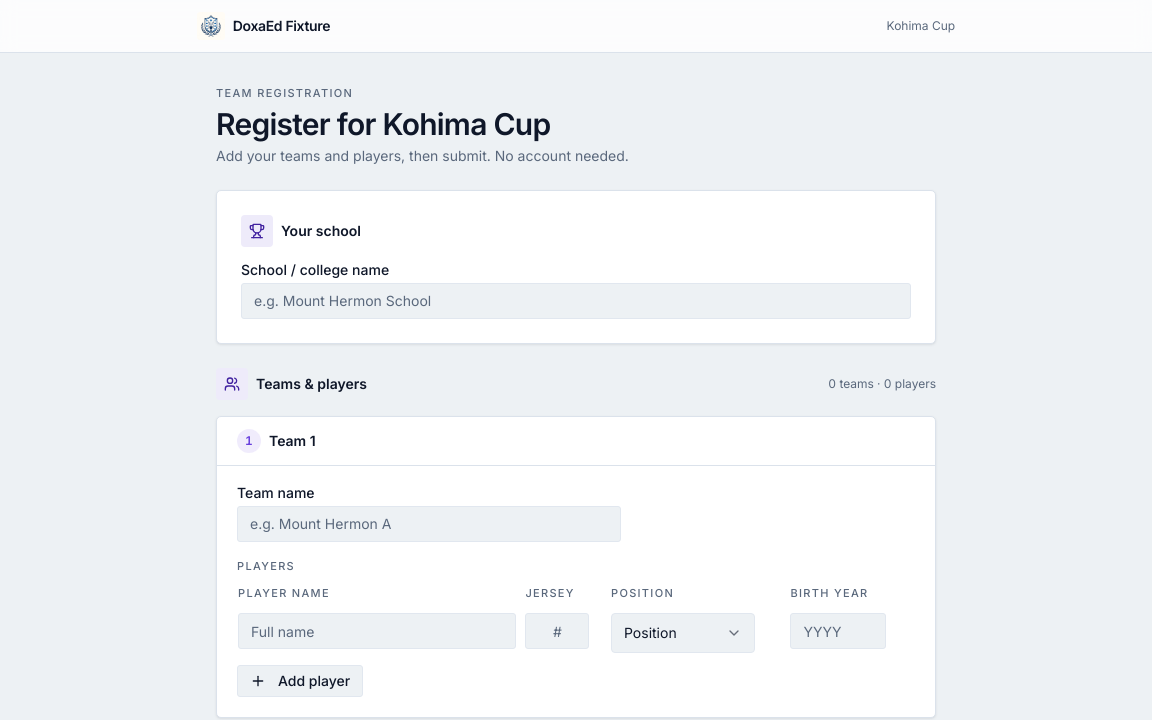
Test: RegistrationFormPage › submits the school's teams + players via the link
expect the heading "Register for Kohima Cup" is shown: met, box [216,106,550,142]
In the field labelled "School / college name": (576, 300) [241,282,911,318], type "Mount Hermon"
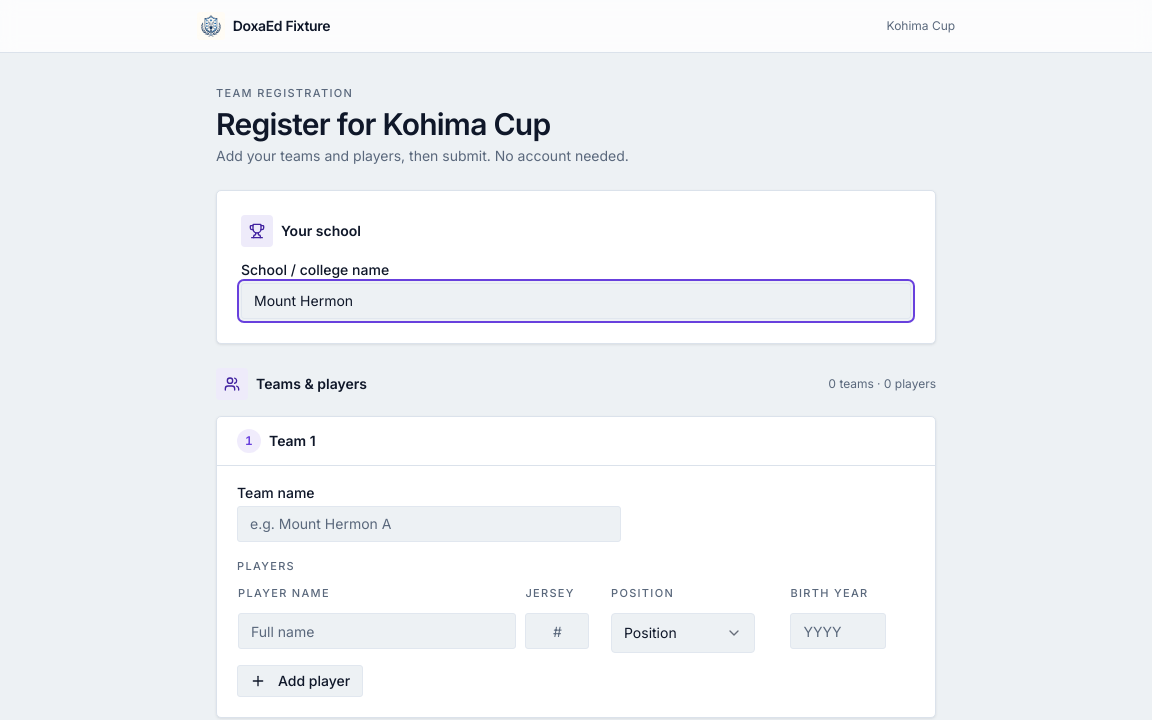
In the field labelled "Team name": (429, 524) [237,506,621,542], type "Mount Hermon A"
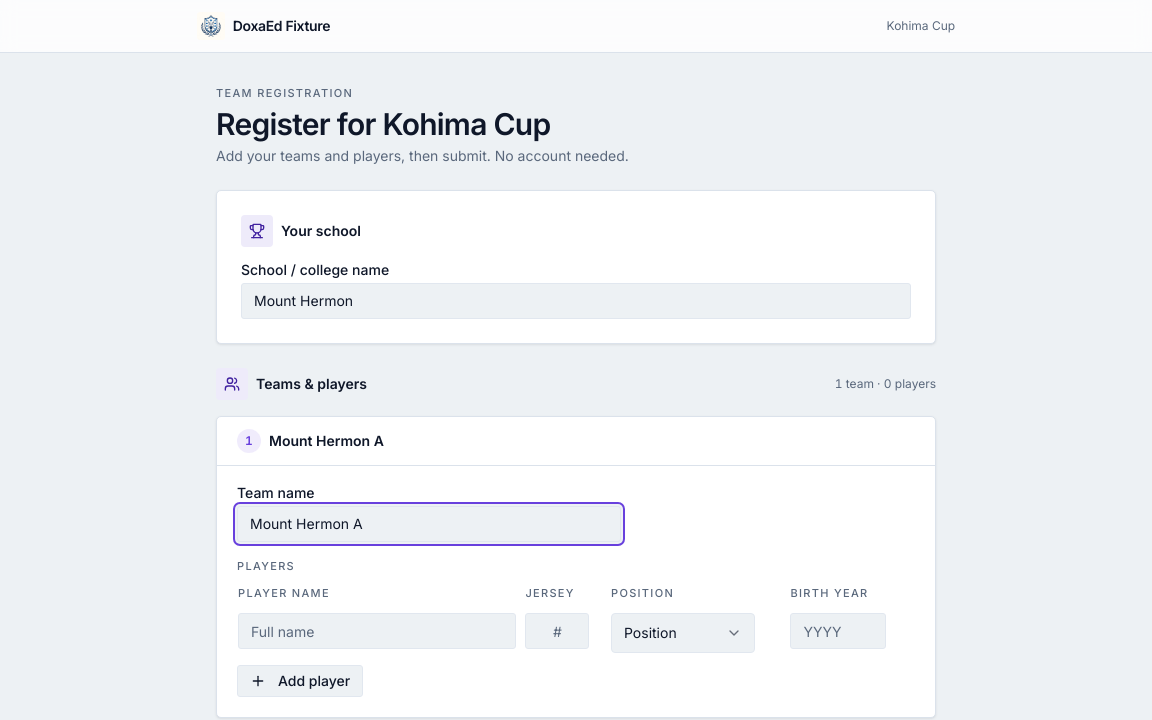
In the field named "player name": (377, 631) [238,613,516,649], type "Keeper"
(page scrolled)
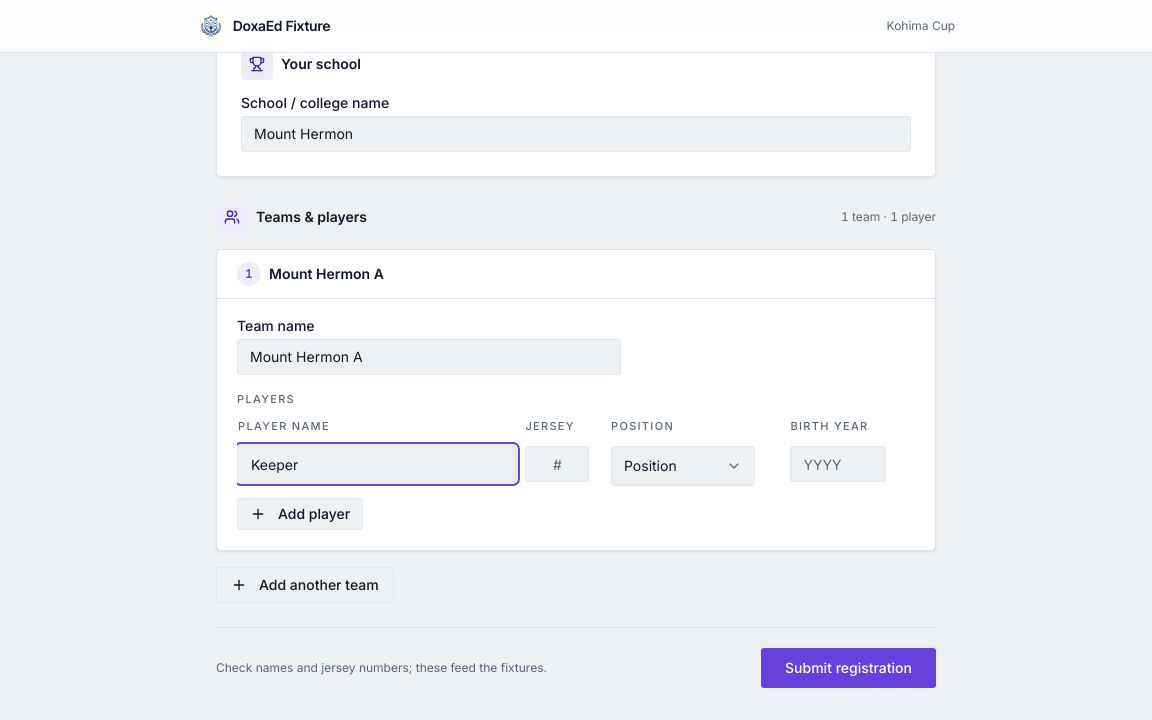
Click the button "Submit registration": (849, 668) [761,648,936,688]
(page scrolled)
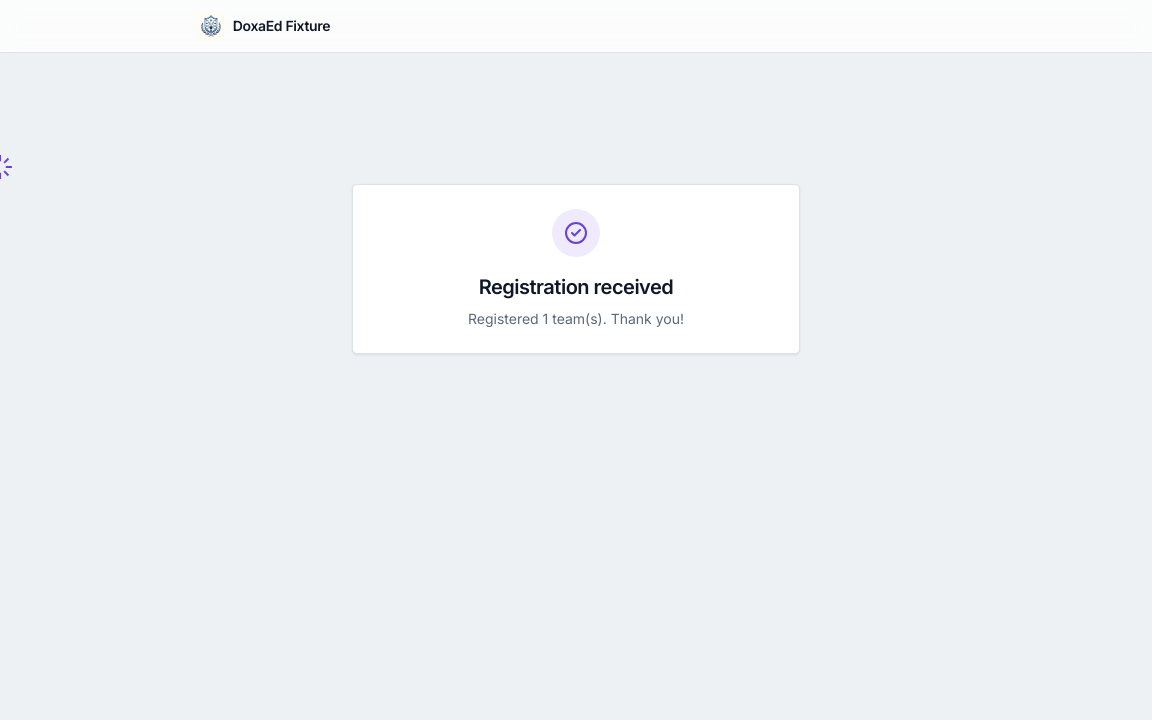
expect the heading "Registration received" is shown: met, box [479,275,673,299]
